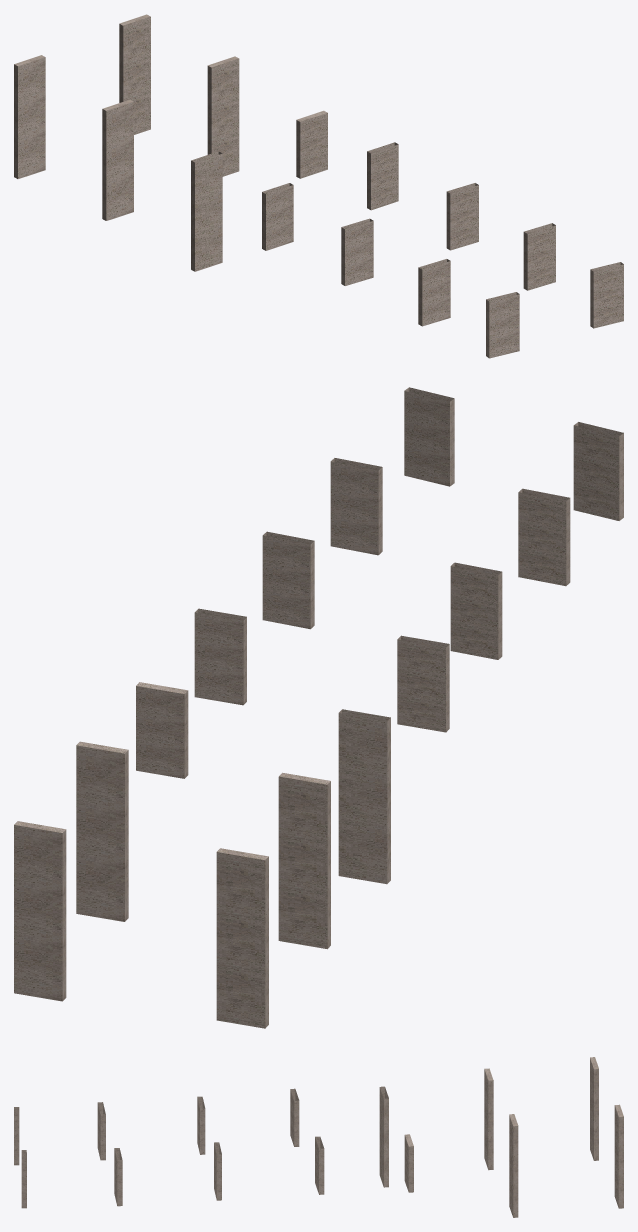
Rendered from lodntwland39b.obj.
3 views of the same model, one above another, from view 1: azimuth 30°, elevation 25°; view 2: azimuth 150°, elevation 25°; view 3: azimuth 270°, elevation 25° (orthographic). The views are drawn at different scales.
Visible parts, largest first — view 1: lodntwland39b; view 2: lodntwland39b; view 3: lodntwland39b.
Part boxes in pixels (bbox=[...]): lodntwland39b: bbox=[14, 14, 623, 358]; lodntwland39b: bbox=[14, 387, 623, 1028]; lodntwland39b: bbox=[14, 1057, 623, 1217].
Bounding box in the file's own units: 60.82 × 27.71 × 154.
Materials: 1 (1 with a texture image).
